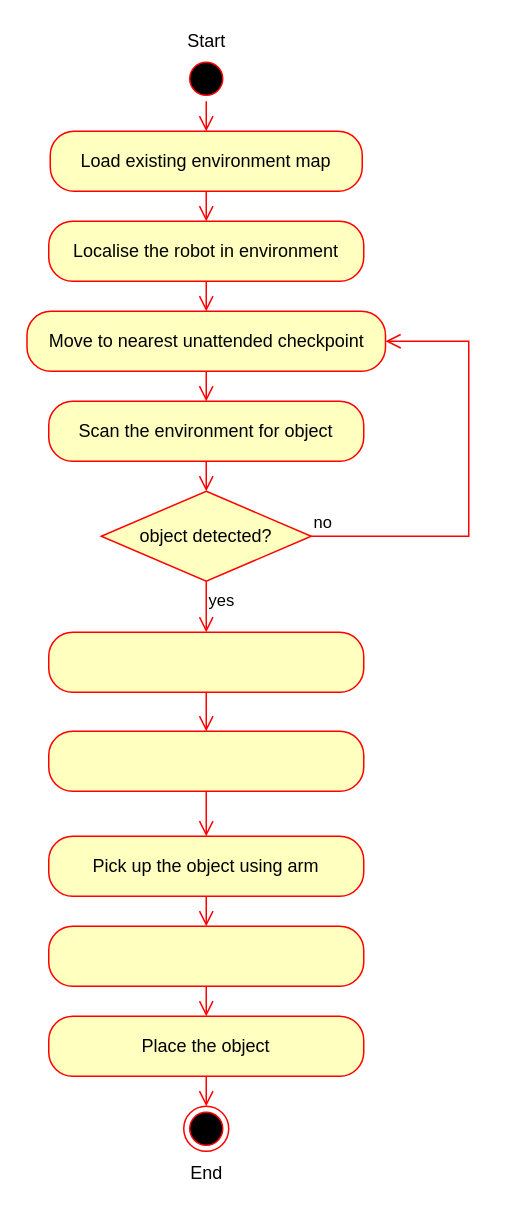
This 510x1214 diagram has some shape labels left out. Each missing label, with the box of its shape:
get object's position: (47, 631, 364, 692)
Move to the collection bin location: (47, 925, 364, 986)
move towards the object: (47, 730, 364, 791)
